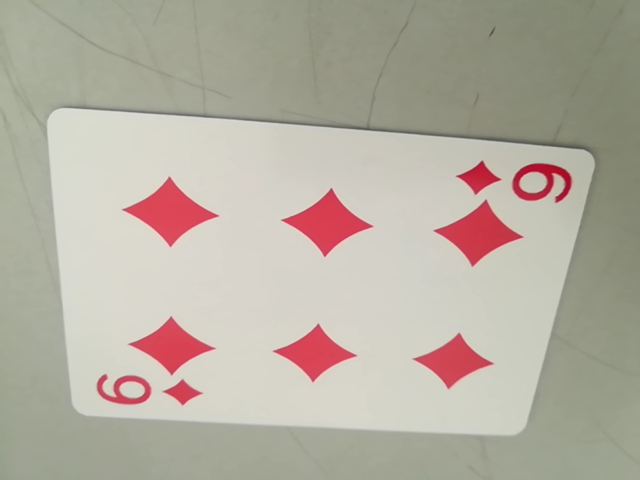fk 6: (457, 154, 576, 206), (92, 367, 204, 415)
